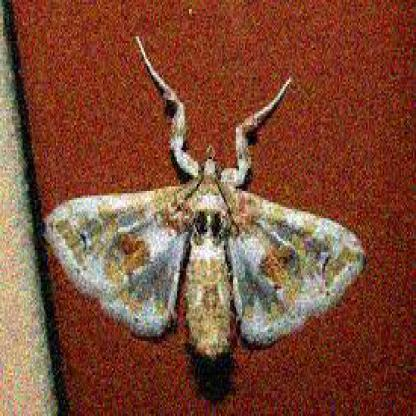leucinodes: (42, 41, 369, 357)
